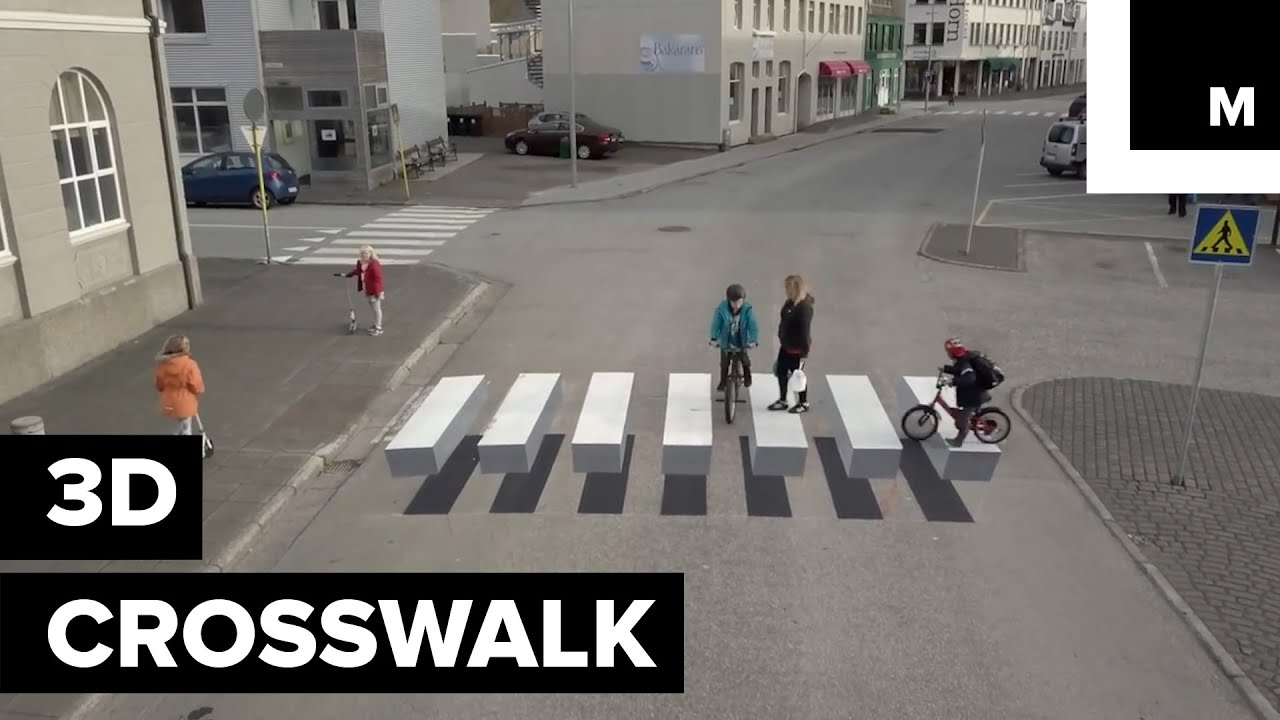Crosswalk: (353, 343, 1063, 538)
